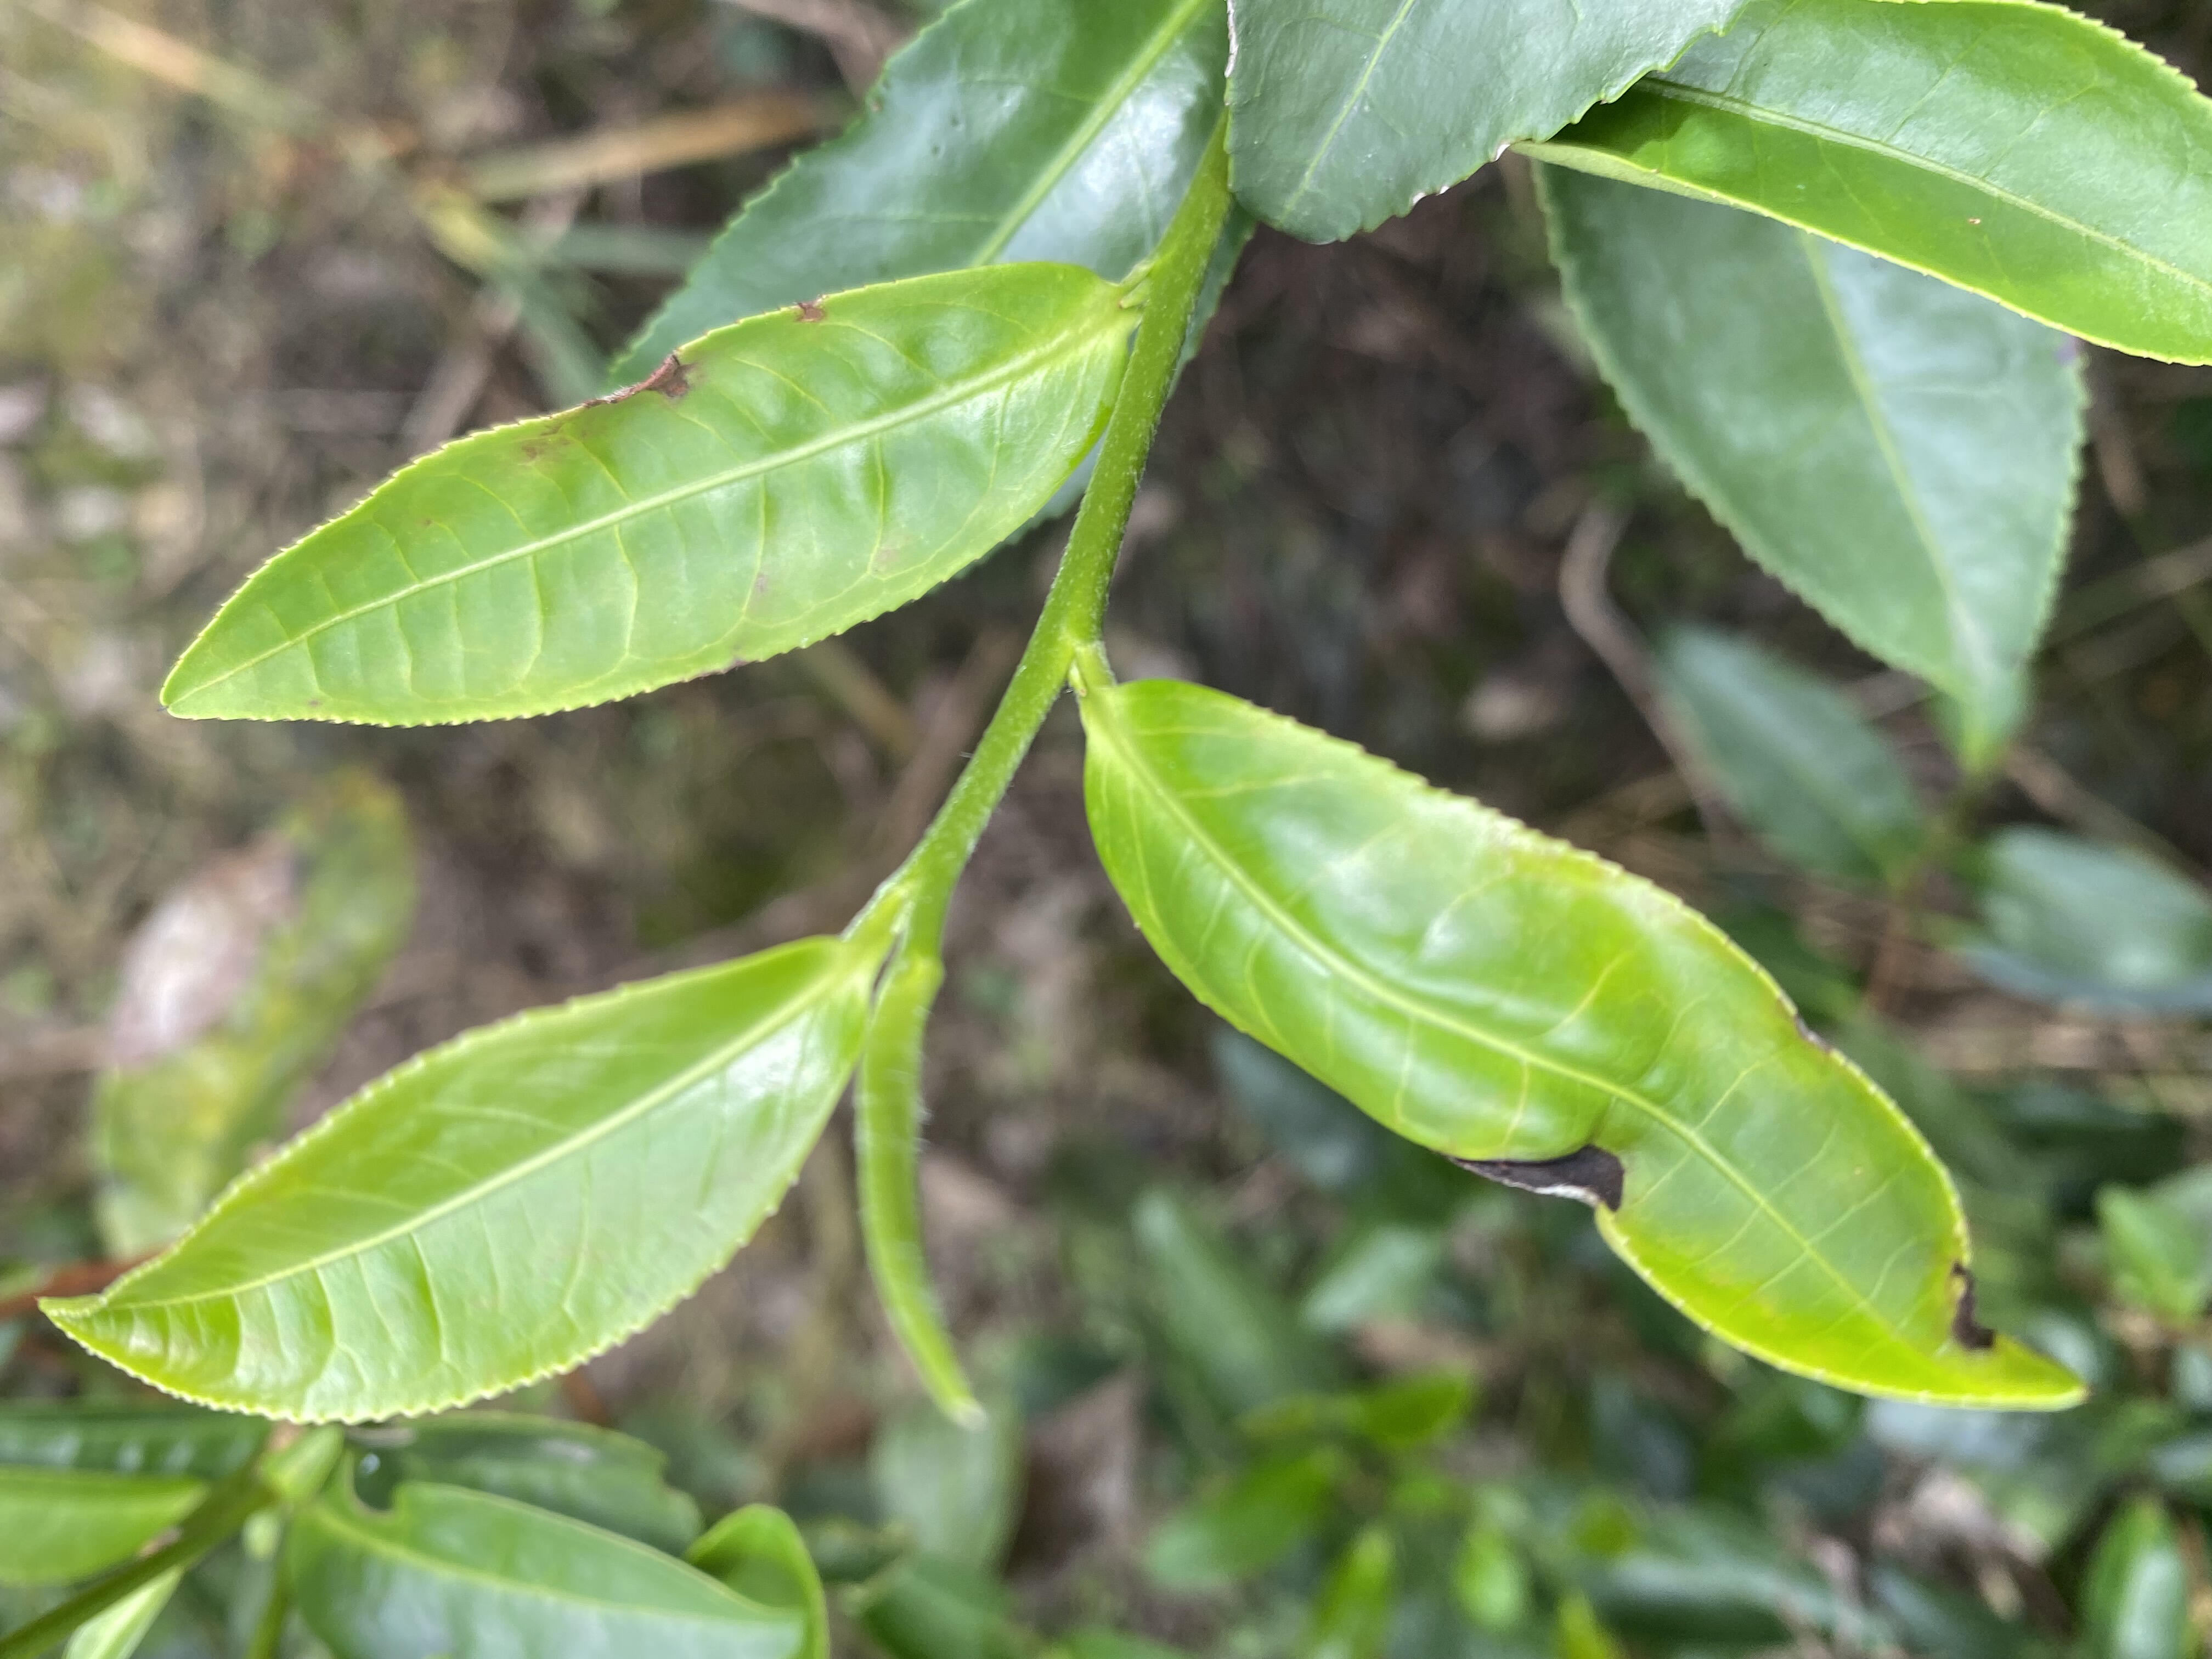healthy: (38, 934, 869, 1424)
tanju_high: (1083, 676, 2090, 1408), (162, 260, 1136, 734)
